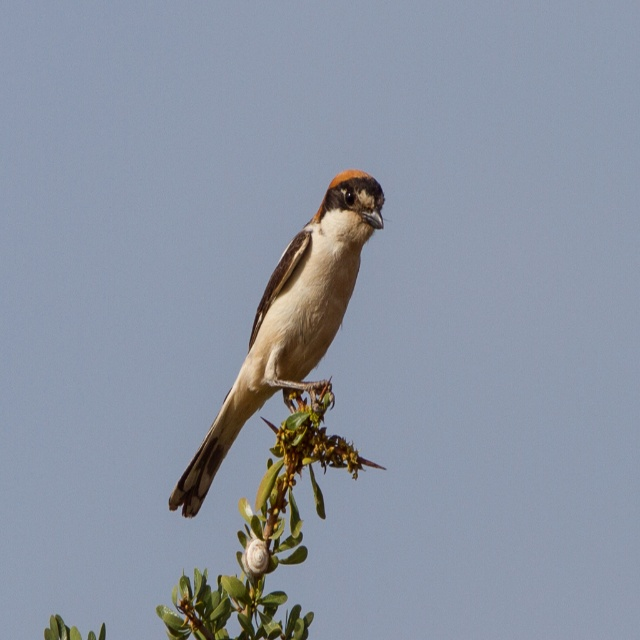Sparrow: (170, 162, 394, 511)
